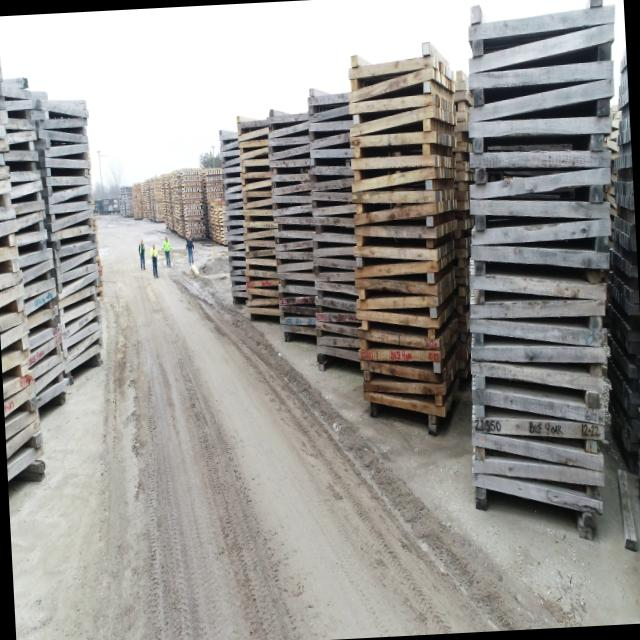stack: (446, 0, 640, 568), (339, 34, 473, 440)
